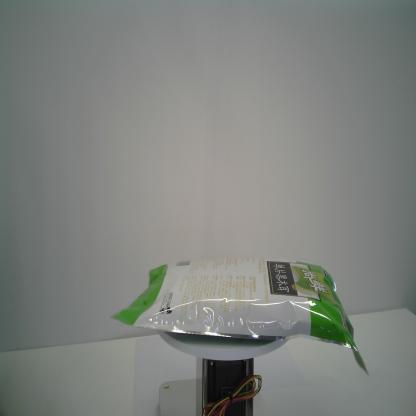Dried Food: (107, 253, 372, 383)
